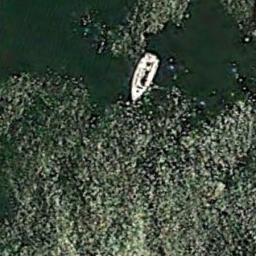boat: (128, 52, 159, 104)
